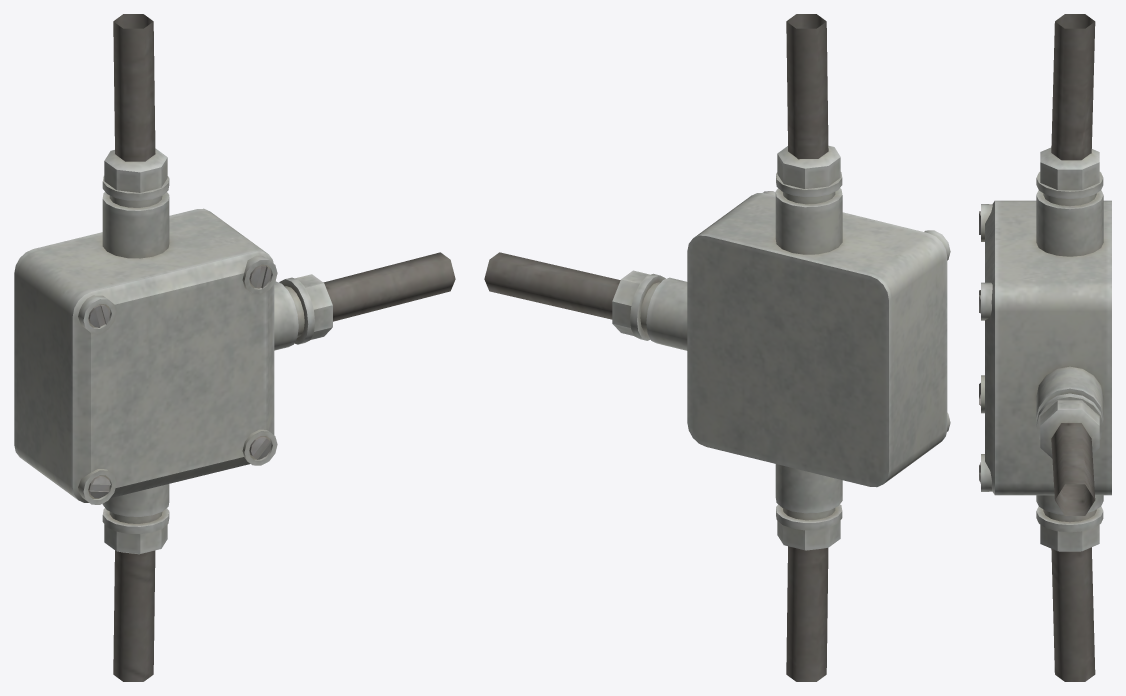
File: cable_box_3way.gltf
3 renders of one model, left to right at view 1: azimuth 30°, elevation 25°; view 2: azimuth 150°, elevation 25°; view 3: azimuth 270°, elevation 25°, orthographic.
Parts seen in each view (by area): view 1: cable_box_3way; view 2: cable_box_3way; view 3: cable_box_3way.
Part boxes in pixels (left/top/right/bottom): cable_box_3way: left=14, top=14, right=455, bottom=681; cable_box_3way: left=484, top=14, right=950, bottom=681; cable_box_3way: left=979, top=14, right=1111, bottom=681.
Bounding box in the file's own units: 0.1323 × 0.2 × 0.0369.
1 material, 1 textured.
